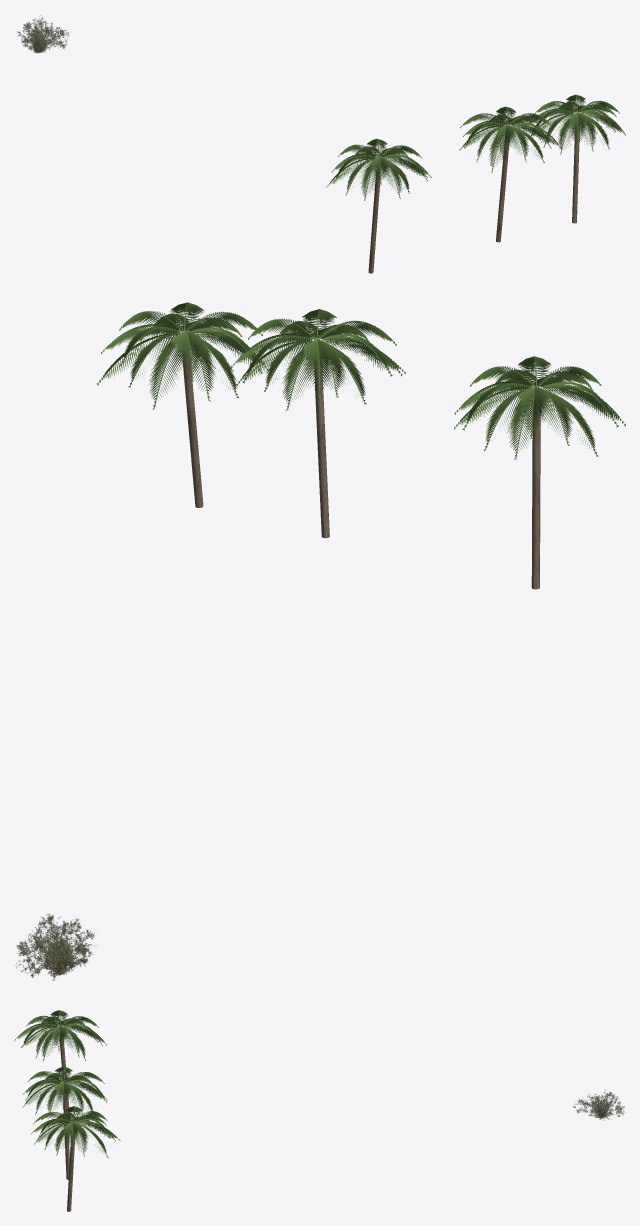
The model's file is plantas.glb.
3 views of the same model, one above another, from view 1: azimuth 30°, elevation 25°; view 2: azimuth 150°, elevation 25°; view 3: azimuth 270°, elevation 25° (orthographic). The views are drawn at different scales.
Visible parts, largest first — view 1: Palmera frondas.002, Palmera frondas.001, Palmera frondas, especie_searsia_burchellii_large, Palmera tronco.001, Palmera tronco.002, Palmera tronco, especie_searsia_burchellii_medium; view 2: Palmera frondas.001, Palmera frondas, Palmera frondas.002, especie_searsia_burchellii_large, Palmera tronco.002, Palmera tronco.001, Palmera tronco, especie_searsia_burchellii_medium; view 3: Palmera frondas.001, Palmera frondas, Palmera frondas.002, especie_searsia_burchellii_large, Palmera tronco, Palmera tronco.001.
Part boxes in pixels (x1=…): Palmera frondas.002: x1=326, y1=138, x2=431, y2=200; Palmera frondas.001: x1=459, y1=106, x2=561, y2=172; Palmera frondas: x1=525, y1=94, x2=625, y2=154; especie_searsia_burchellii_large: x1=17, y1=15, x2=69, y2=51; Palmera tronco.001: x1=496, y1=137, x2=509, y2=242; Palmera tronco.002: x1=368, y1=170, x2=380, y2=273; Palmera tronco: x1=572, y1=125, x2=579, y2=223; especie_searsia_burchellii_medium: x1=21, y1=22, x2=58, y2=52; Palmera frondas.001: x1=231, y1=309, x2=405, y2=410; Palmera frondas: x1=97, y1=302, x2=267, y2=409; Palmera frondas.002: x1=454, y1=356, x2=625, y2=459; especie_searsia_burchellii_large: x1=14, y1=913, x2=94, y2=977; Palmera tronco.002: x1=531, y1=401, x2=540, y2=589; Palmera tronco.001: x1=313, y1=340, x2=329, y2=538; Palmera tronco: x1=182, y1=352, x2=203, y2=507; especie_searsia_burchellii_medium: x1=31, y1=928, x2=88, y2=973; Palmera frondas.001: x1=22, y1=1066, x2=107, y2=1114; Palmera frondas: x1=31, y1=1106, x2=120, y2=1157; Palmera frondas.002: x1=14, y1=1010, x2=106, y2=1061; especie_searsia_burchellii_large: x1=573, y1=1089, x2=624, y2=1120; Palmera tronco: x1=67, y1=1133, x2=74, y2=1211; Palmera tronco.001: x1=63, y1=1091, x2=69, y2=1179.
Size of the model in its own units: 27.75 by 11.33 by 57.42.
7 materials, 6 textured.
